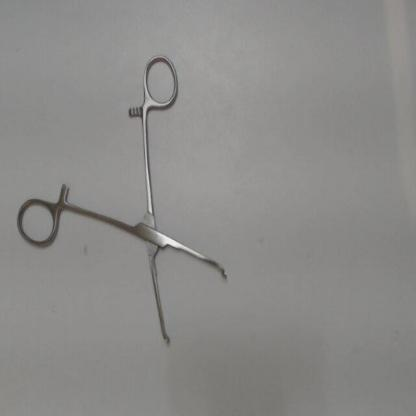Allis Tissue Forceps: (9, 43, 240, 360)
